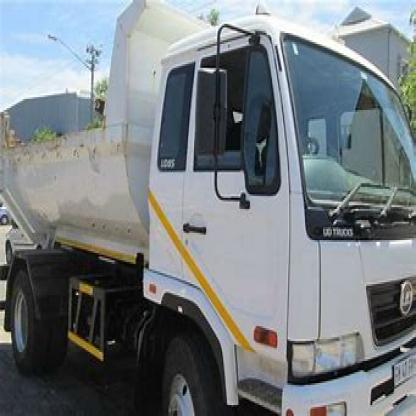dump_truck: (1, 0, 415, 414)
